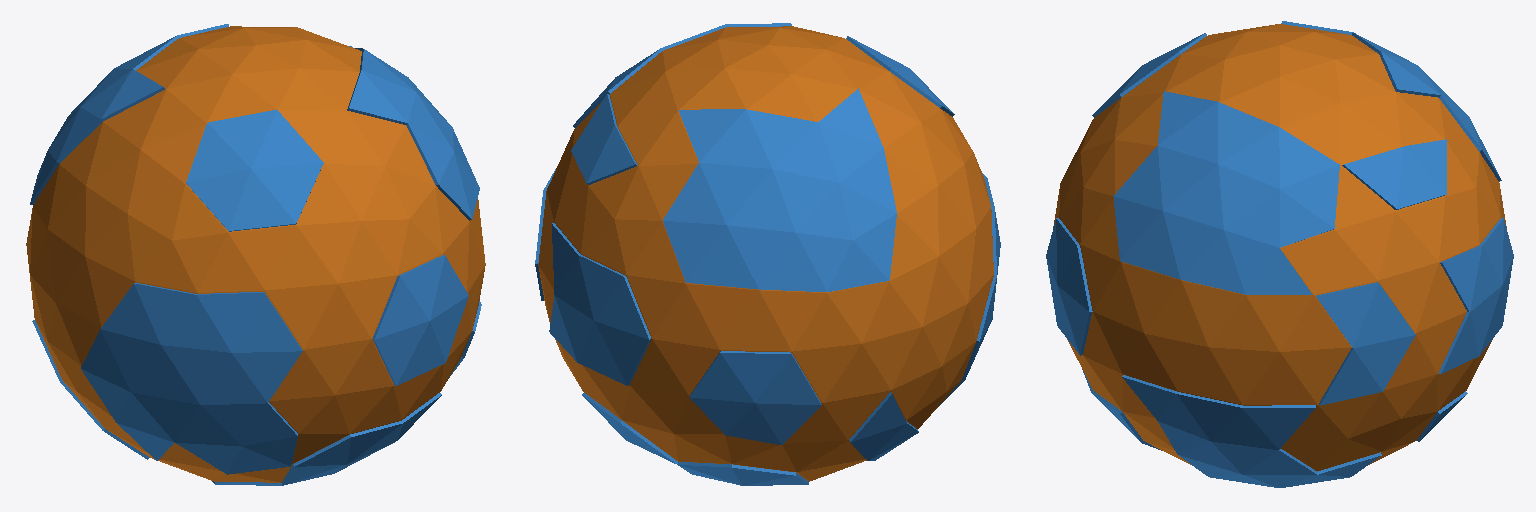
File: Mercury.obj
3 views of the same model, side by side, from view 1: azimuth 30°, elevation 25°; view 2: azimuth 150°, elevation 25°; view 3: azimuth 270°, elevation 25° (orthographic).
Visible parts, largest first — view 1: Icosphere; view 2: Icosphere; view 3: Icosphere.
Part boxes in pixels (left/top/right/bottom): Icosphere: left=26, top=24, right=485, bottom=485; Icosphere: left=535, top=23, right=1000, bottom=485; Icosphere: left=1046, top=21, right=1513, bottom=487.
Size of the model in its own units: 2.08 by 2.09 by 2.11.